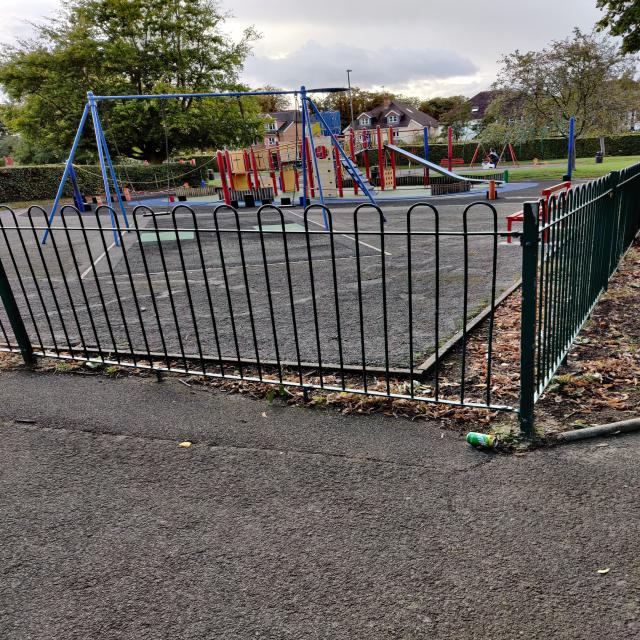litter: (467, 432, 497, 446)
